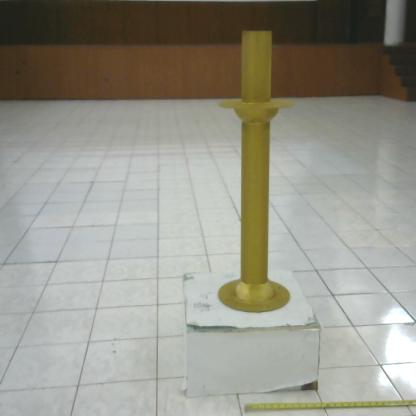pole: (210, 26, 297, 321)
